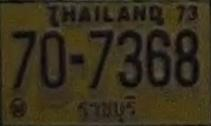0: (39, 30, 65, 88)
3: (117, 29, 141, 87)
6: (146, 29, 170, 86)
7: (88, 30, 112, 88), (11, 30, 35, 88)
8: (174, 28, 198, 86)
RBR: (74, 93, 138, 125)
